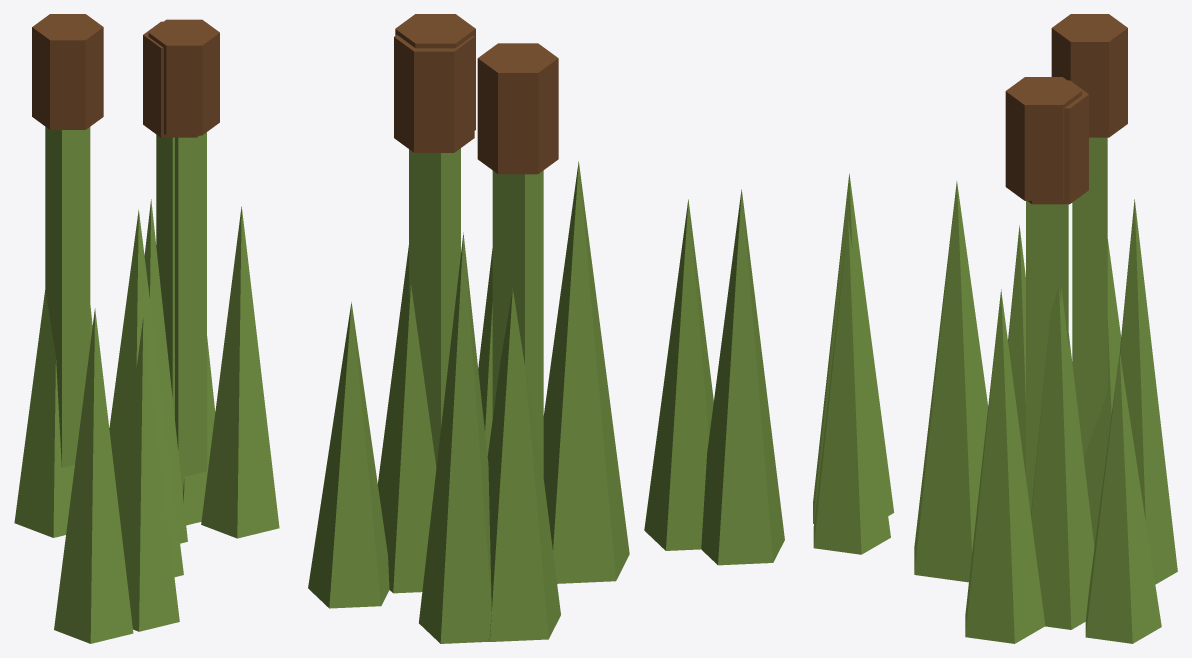
File: reeds_2.glb
The picture shows the model from 3 angles, left to right: view 1: azimuth 30°, elevation 25°; view 2: azimuth 150°, elevation 25°; view 3: azimuth 270°, elevation 25°; orthographic projection. The views are drawn at different scales.
Parts seen in each view (by area): view 1: reed, reed_head; view 2: reed, reed_head; view 3: reed, reed_head.
Boxes of the visible parts, box(x1,y1,x2,y2) form: reed: box(14, 127, 279, 643); reed_head: box(32, 14, 219, 137); reed: box(308, 148, 784, 643); reed_head: box(394, 14, 558, 174); reed: box(813, 137, 1177, 643); reed_head: box(1005, 14, 1127, 204).
Bounding box in the file's own units: 0.601 × 0.9943 × 0.621.
